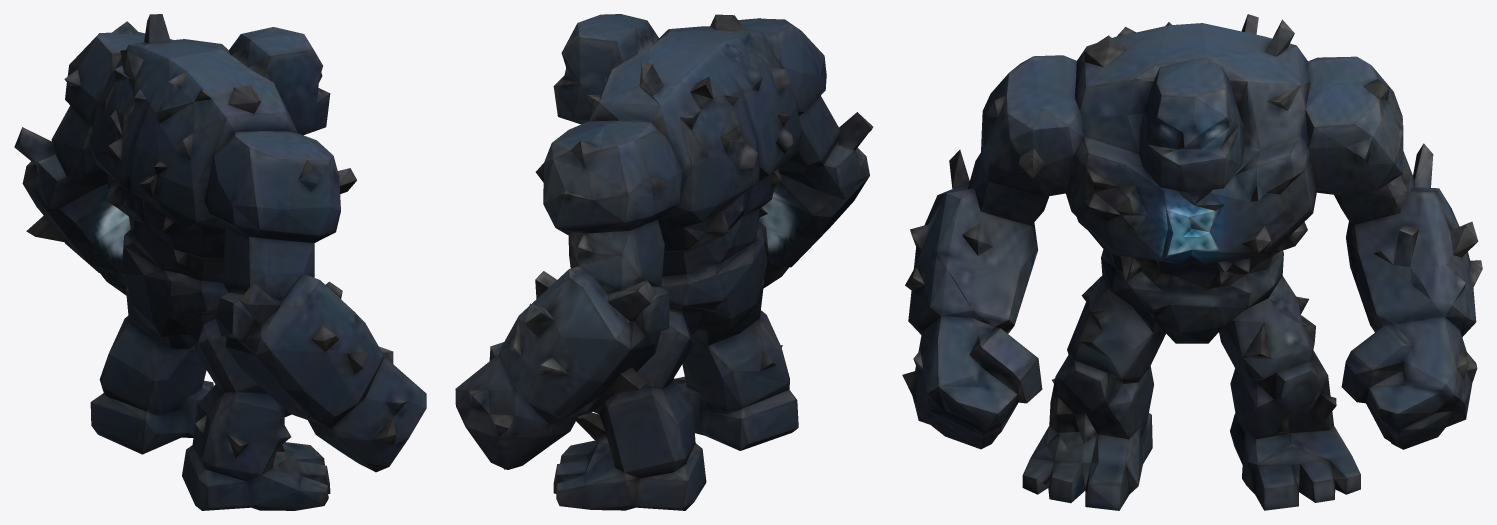
Rendered from foe_lodestoneGolem.glb.
The picture shows the model from 3 angles, left to right: view 1: azimuth 30°, elevation 25°; view 2: azimuth 150°, elevation 25°; view 3: azimuth 270°, elevation 25°; orthographic projection. The views are drawn at different scales.
Visible parts, largest first — view 1: tripo_node_46ce3f52-bdcf-4ca9-b746-e7c92f4f7c07.001; view 2: tripo_node_46ce3f52-bdcf-4ca9-b746-e7c92f4f7c07.001; view 3: tripo_node_46ce3f52-bdcf-4ca9-b746-e7c92f4f7c07.001.
Boxes of the visible parts, left/top/right/bottom form: tripo_node_46ce3f52-bdcf-4ca9-b746-e7c92f4f7c07.001: left=14, top=14, right=426, bottom=510; tripo_node_46ce3f52-bdcf-4ca9-b746-e7c92f4f7c07.001: left=455, top=14, right=873, bottom=510; tripo_node_46ce3f52-bdcf-4ca9-b746-e7c92f4f7c07.001: left=902, top=14, right=1482, bottom=510.
Size of the model in its own units: 0.4264 by 0.8439 by 0.9961.
Materials: 1 (1 with a texture image).
